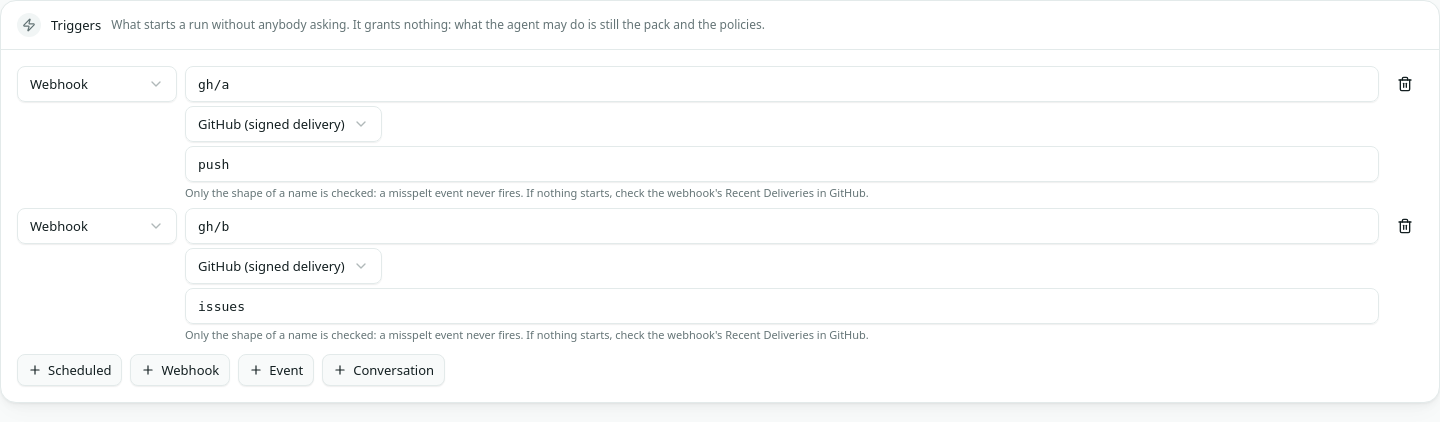
Scenario: two GitHub webhook rows › shows the remaining row's events after the first is removed
Click the 1st button named "Remove".
click(1405, 84)  # box [1387,66,1423,102]
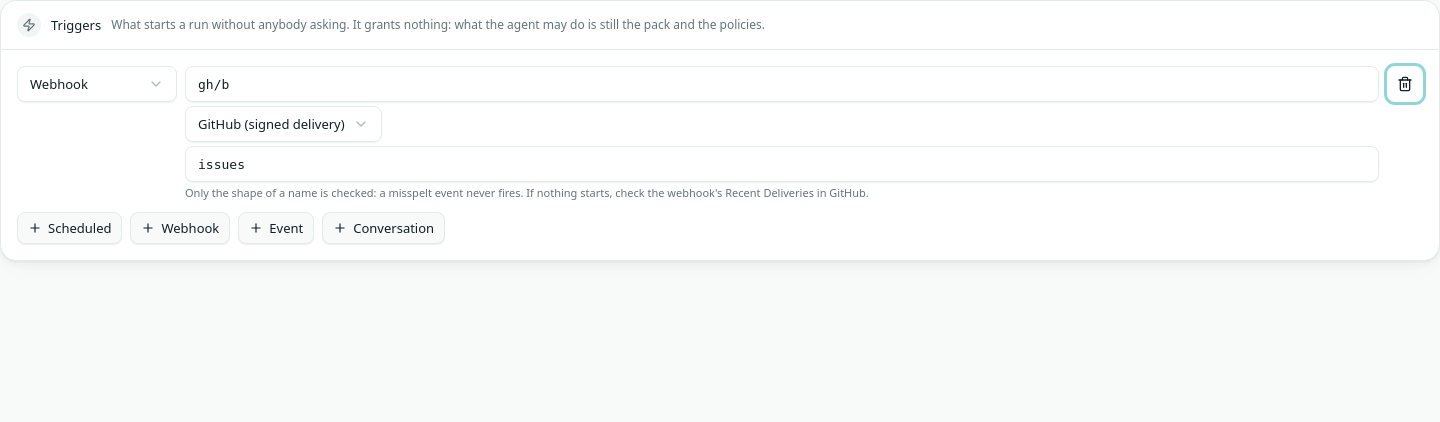
Result: the field named "GitHub events" holds "issues" at [185,146,1379,182]
